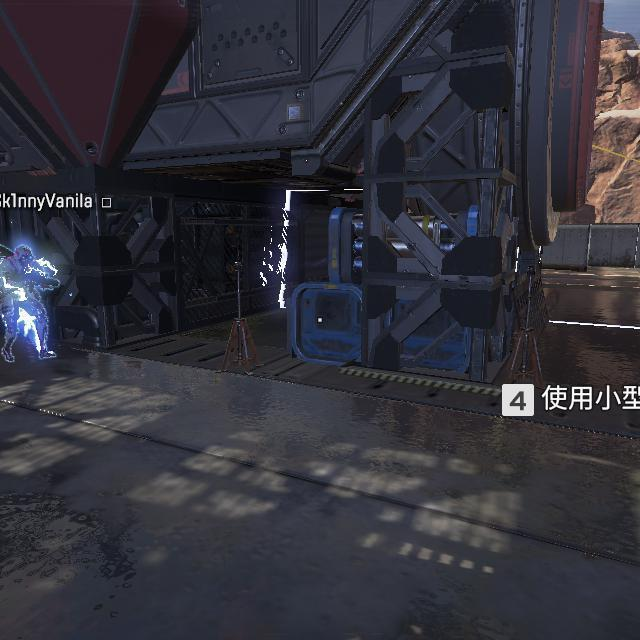avatar: (0, 243, 58, 363)
